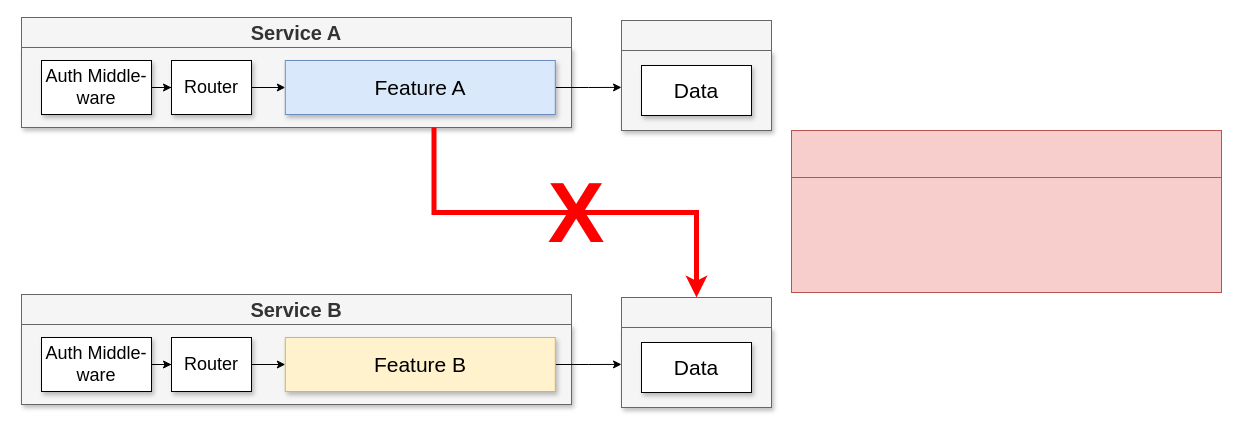
Image size: 1239x432. Some labels were removed from this diagram. The shapes that lost their labels are listed below. From the top down, each one's centre as x and y in pixels, then its label:
point (696, 35): DB for A
point (1006, 154): Harsh Reality #2
point (1006, 234): Services will never, ever into another services database
point (696, 312): DB for B
